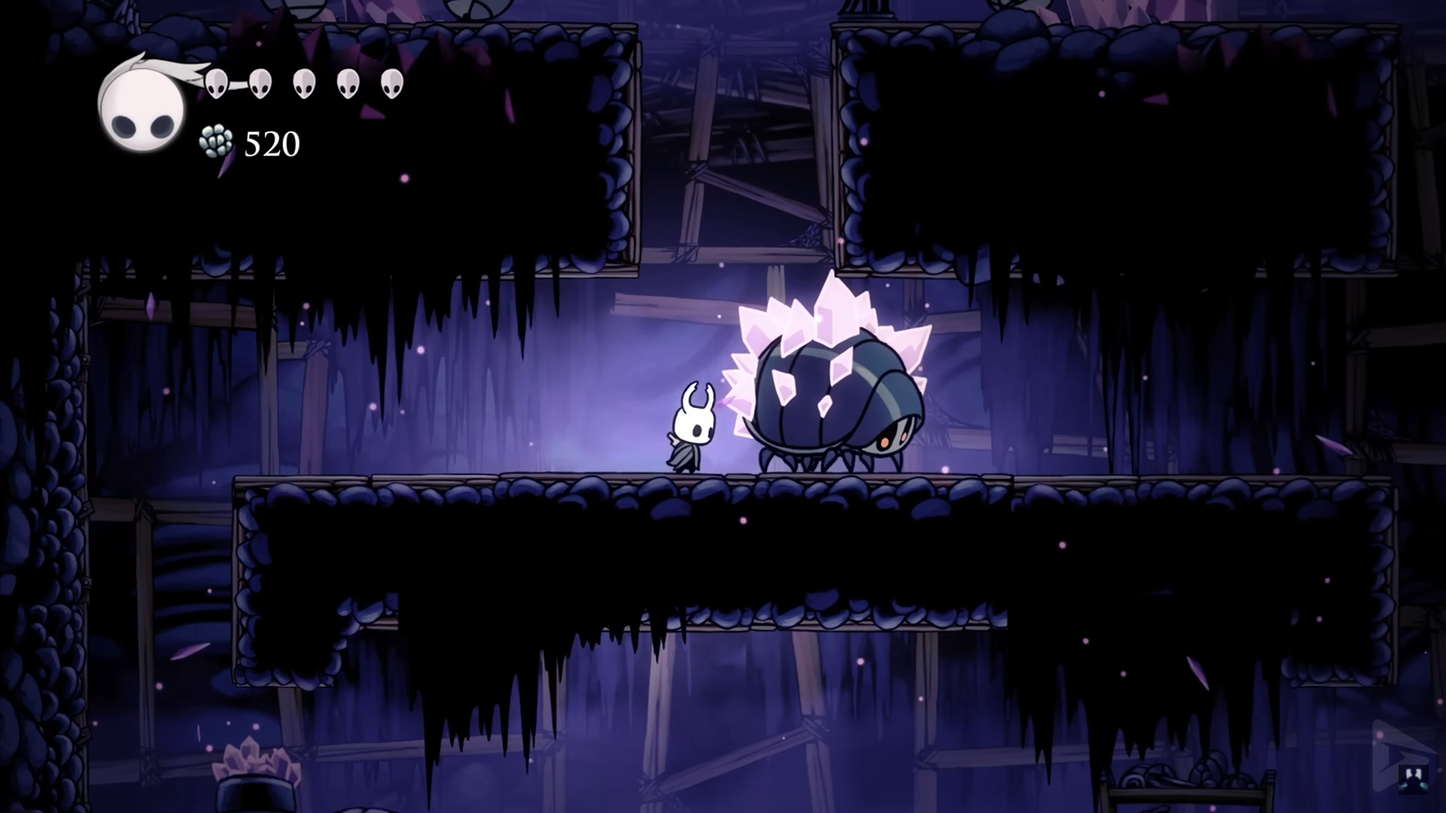HK: (661, 377, 719, 476)
